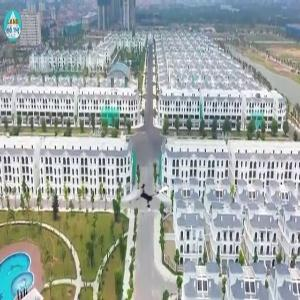drone: (132, 174, 170, 212)
